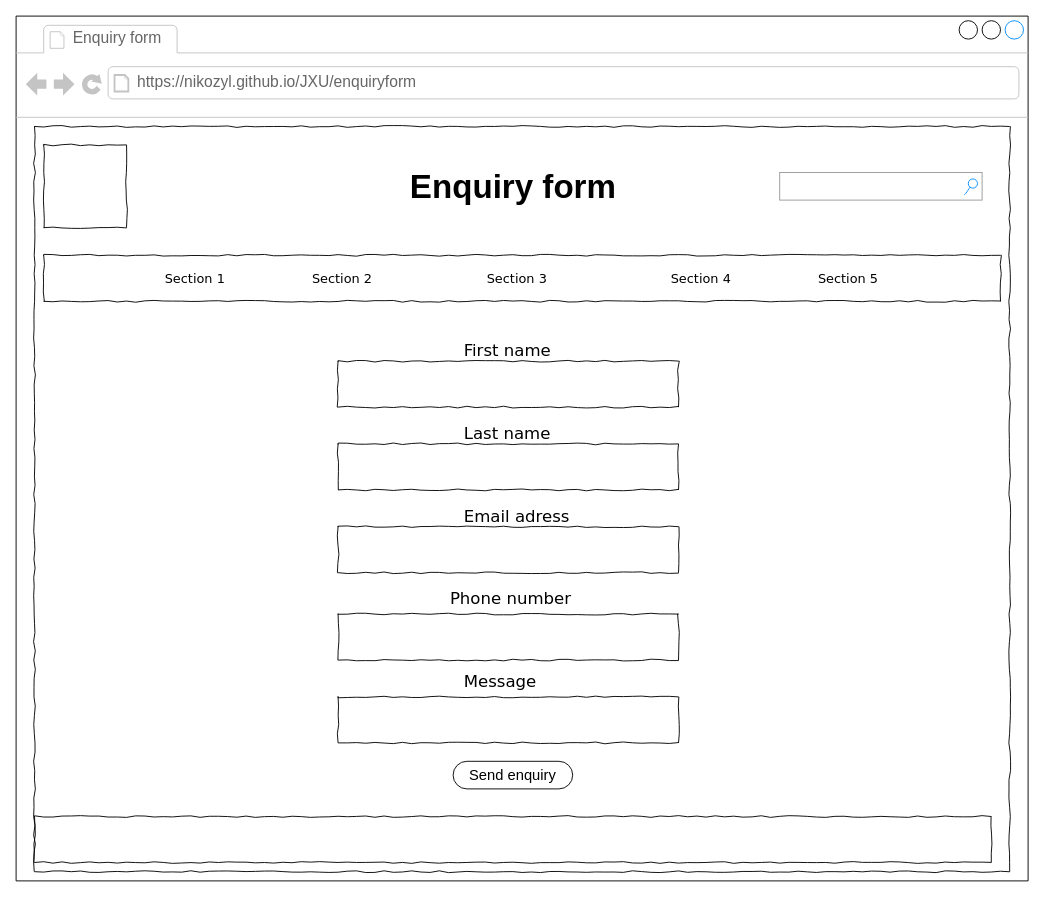
This 1044x897 diagram has some shape labels left out. The box of each missing label's shape, as (x1, y1, x2, y2) in pixels:
Footer: (34, 816, 991, 862)
LOGO: (43, 144, 126, 228)
